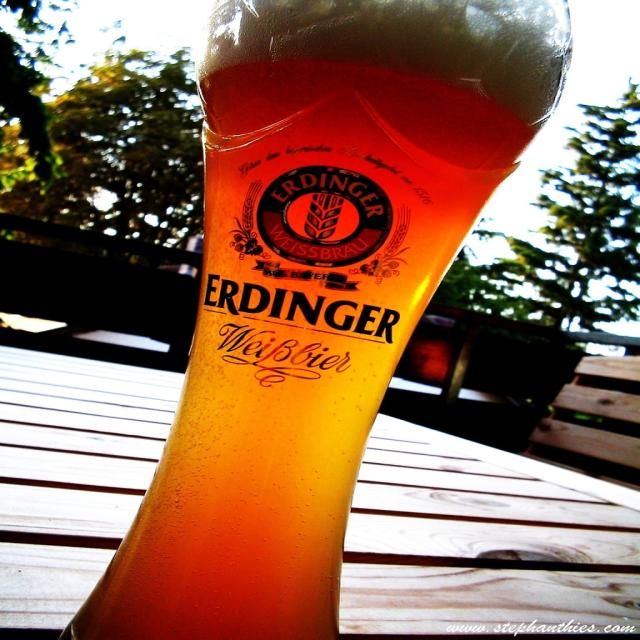erdinger: (201, 142, 440, 347)
